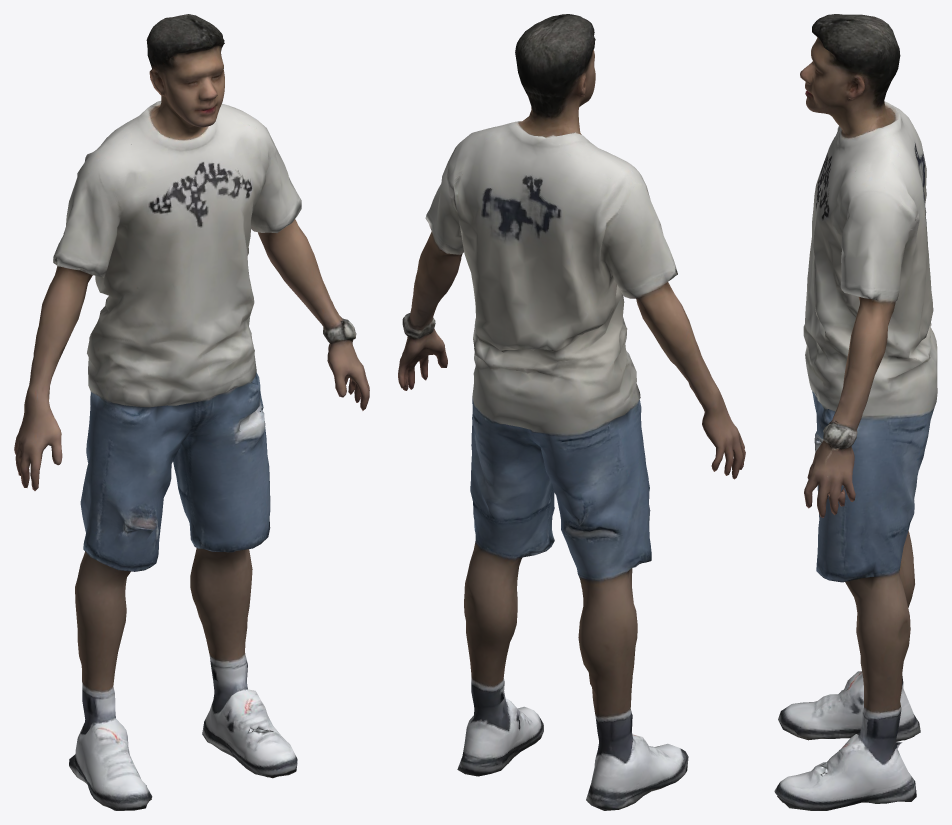
The model's file is ahmed.glb.
3 renders of one model, left to right at view 1: azimuth 30°, elevation 25°; view 2: azimuth 150°, elevation 25°; view 3: azimuth 270°, elevation 25°, orthographic.
Visible parts, largest first — view 1: body; view 2: body; view 3: body.
Part boxes in pixels (x1=…): body: x1=14, y1=14, x2=369, y2=810; body: x1=398, y1=14, x2=745, y2=810; body: x1=774, y1=14, x2=937, y2=810.
Size of the model in its own units: 0.8605 by 1.8 by 0.3526.
1 material, 1 textured.
